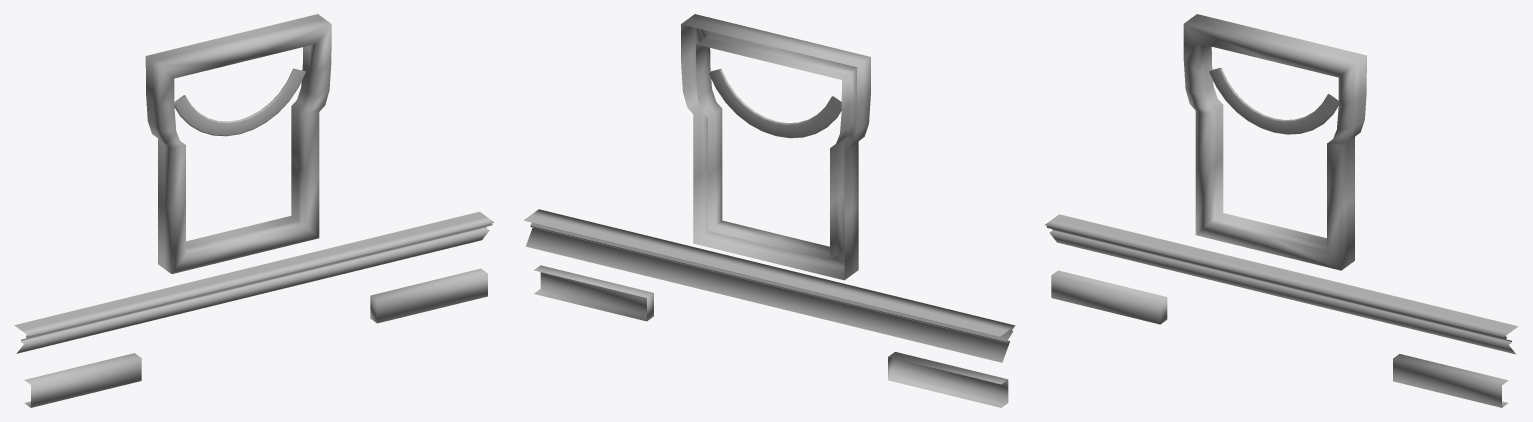
The model's file is DetalheJanelaSuperiorQuadrada.fbx.
3 views of the same model, side by side, from view 1: azimuth 30°, elevation 25°; view 2: azimuth 150°, elevation 25°; view 3: azimuth 330°, elevation 25° (orthographic). The views are drawn at different scales.
Parts seen in each view (by area): view 1: DetalheJanelaSuperiorQuadrada, DetalheParedeSuperiorQuadrado, BezierCurveDetalheJanelaSuperiorQuadrada; view 2: DetalheJanelaSuperiorQuadrada, DetalheParedeSuperiorQuadrado, BezierCurveDetalheJanelaSuperiorQuadrada; view 3: DetalheJanelaSuperiorQuadrada, DetalheParedeSuperiorQuadrado, BezierCurveDetalheJanelaSuperiorQuadrada.
Part boxes in pixels (x1=…): DetalheJanelaSuperiorQuadrada: x1=14, y1=211, x2=494, y2=407; DetalheParedeSuperiorQuadrado: x1=145, y1=14, x2=331, y2=273; BezierCurveDetalheJanelaSuperiorQuadrada: x1=174, y1=68, x2=305, y2=136; DetalheJanelaSuperiorQuadrada: x1=524, y1=209, x2=1015, y2=407; DetalheParedeSuperiorQuadrado: x1=681, y1=14, x2=870, y2=280; BezierCurveDetalheJanelaSuperiorQuadrada: x1=708, y1=69, x2=841, y2=138; DetalheJanelaSuperiorQuadrada: x1=1044, y1=214, x2=1517, y2=407; DetalheParedeSuperiorQuadrado: x1=1183, y1=14, x2=1366, y2=270; BezierCurveDetalheJanelaSuperiorQuadrada: x1=1208, y1=68, x2=1338, y2=134.
Bounding box in the file's own units: 169 × 107 × 12.01.
